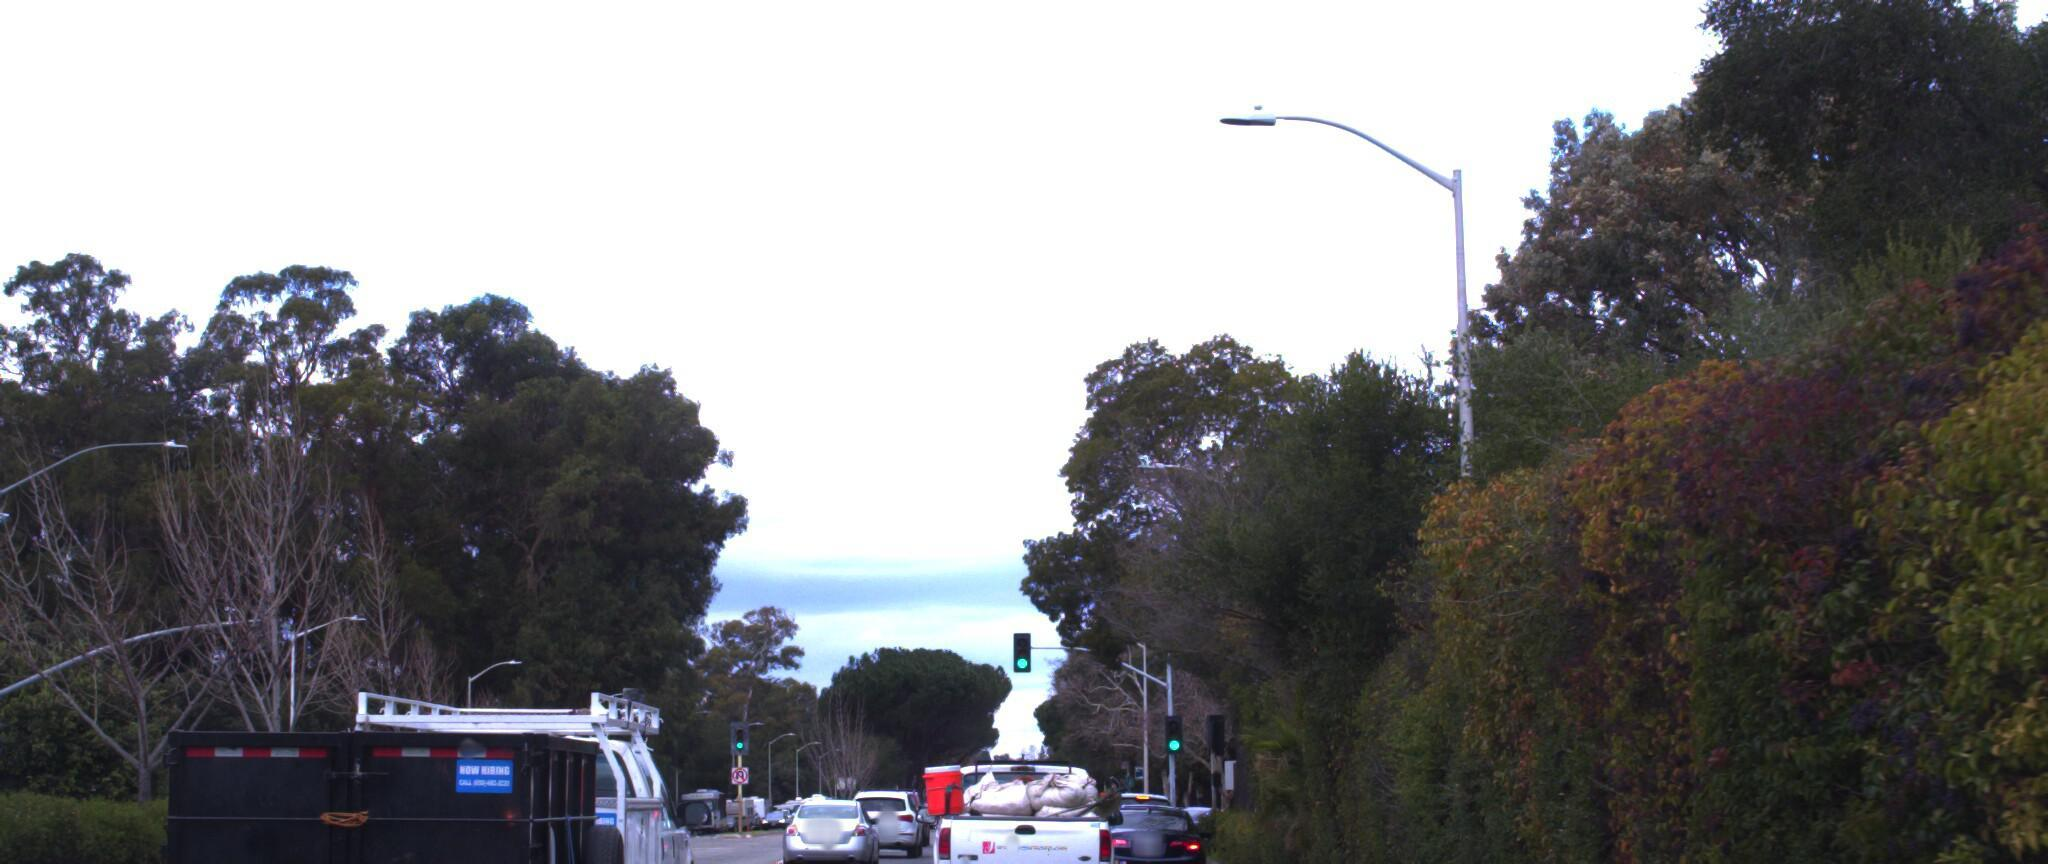car: (135, 626, 747, 864), (912, 724, 1119, 864), (1081, 787, 1202, 864), (773, 787, 883, 864), (849, 777, 935, 843)
